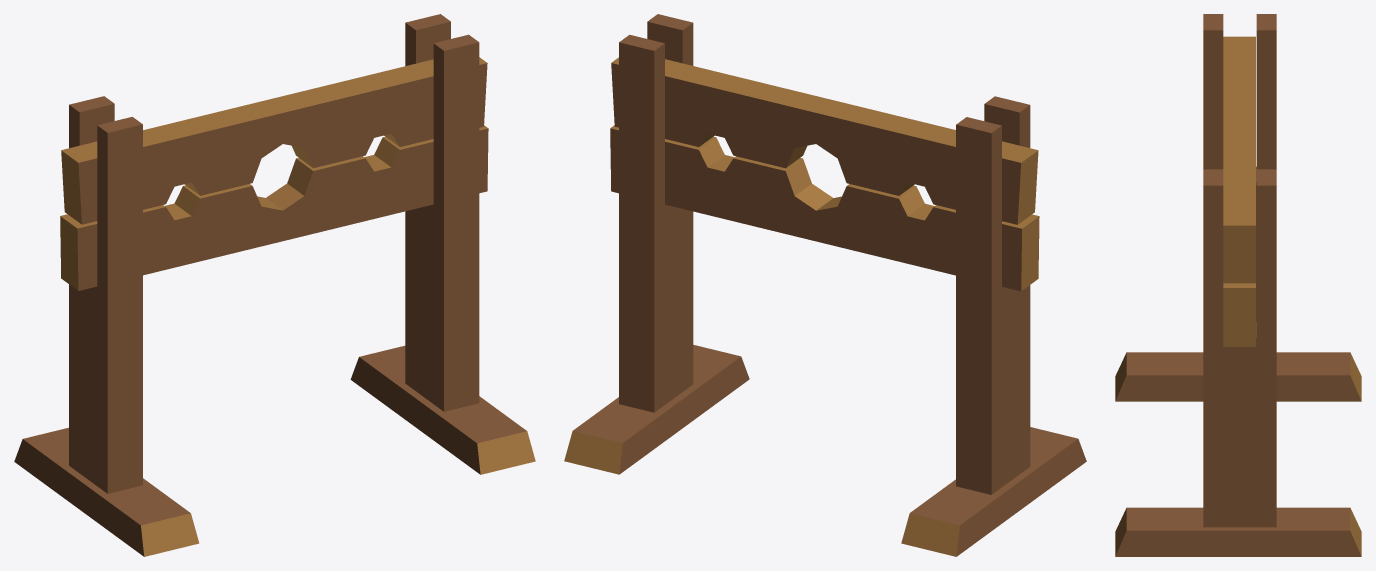
File: torture-head.glb
3 renders of one model, left to right at view 1: azimuth 30°, elevation 25°; view 2: azimuth 150°, elevation 25°; view 3: azimuth 270°, elevation 25°, orthographic. The views are drawn at different scales.
Parts seen in each view (by area): view 1: torture-head; view 2: torture-head; view 3: torture-head.
Boxes of the visible parts, x1=… form: torture-head: x1=14, y1=14, x2=535, y2=556; torture-head: x1=564, y1=14, x2=1086, y2=556; torture-head: x1=1115, y1=14, x2=1361, y2=556.
Size of the model in its own units: 1.4 by 1.26 by 0.7666.
Materials: 1 (1 with a texture image).
